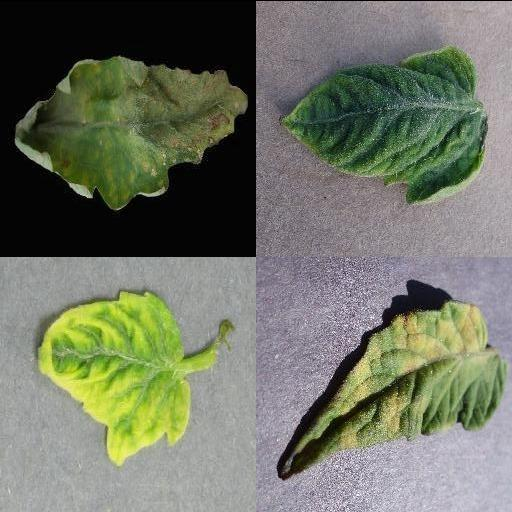Late Blight: (16, 53, 248, 209)
Leaf Mold: (278, 300, 506, 480)
Yellow Leaf Curl Virus: (280, 45, 490, 203), (35, 290, 193, 464)
